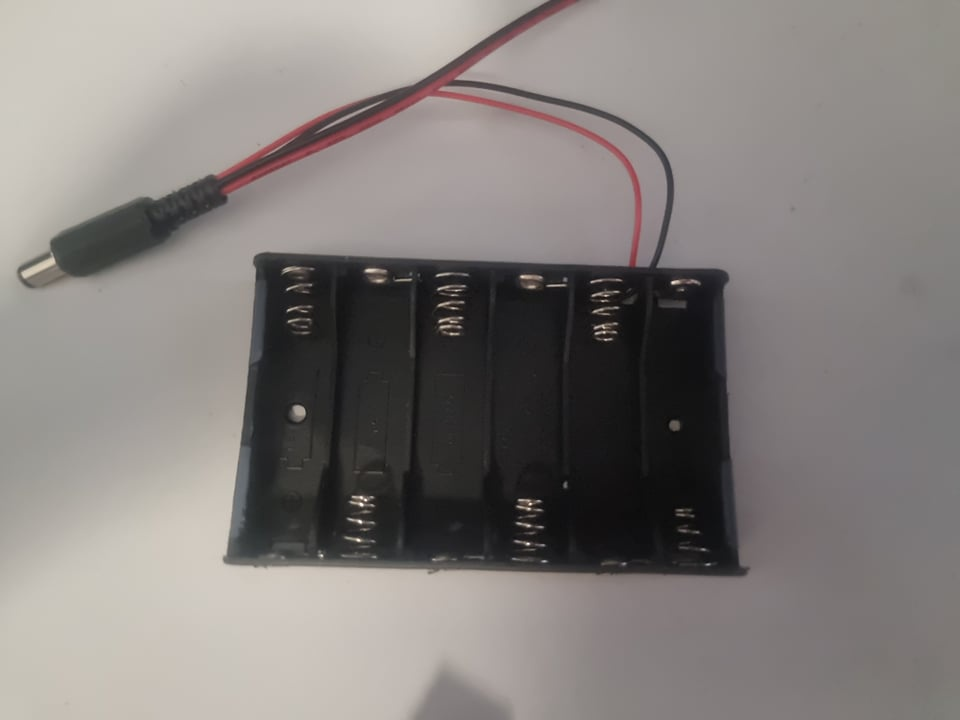BATTERY BOX: (222, 251, 746, 579)
